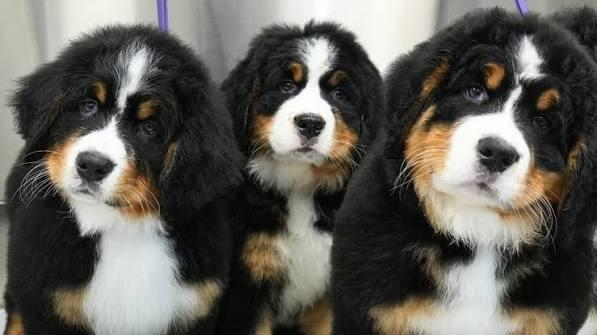puppy-dog: (330, 5, 597, 335), (1, 24, 246, 335), (220, 19, 385, 335)
